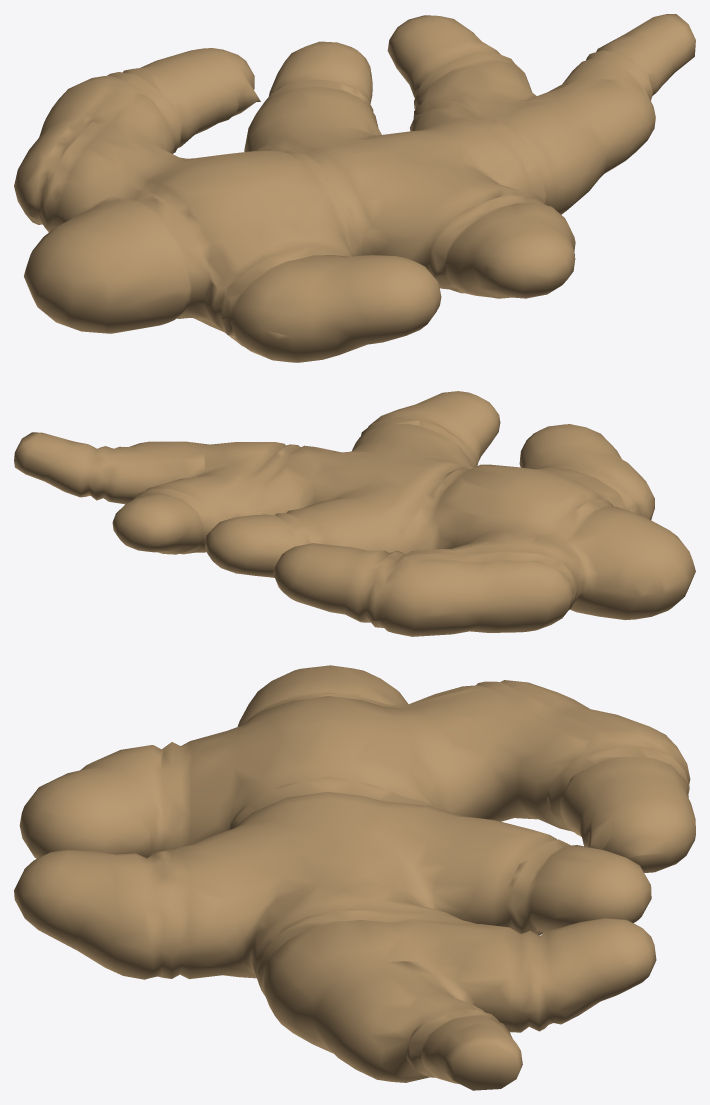
Rendered from NEW_RECOVERY_061_LOD0.glb.
3 renders of one model, top to bottom at view 1: azimuth 30°, elevation 25°; view 2: azimuth 150°, elevation 25°; view 3: azimuth 270°, elevation 25°, orthographic. The views are drawn at different scales.
Parts seen in each view (by area): view 1: Ginger_whole_solid; view 2: Ginger_whole_solid; view 3: Ginger_whole_solid.
Part boxes in pixels (x1=…): Ginger_whole_solid: x1=14, y1=14, x2=695, y2=362; Ginger_whole_solid: x1=14, y1=391, x2=695, y2=636; Ginger_whole_solid: x1=14, y1=665, x2=695, y2=1090.
Size of the model in its own units: 0.2163 by 0.0397 by 0.1525.
